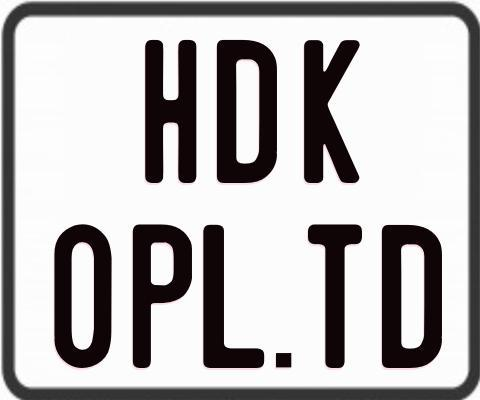0: (52, 223, 115, 367)
D: (382, 224, 446, 371), (214, 37, 274, 182)
H: (142, 40, 197, 188)
K: (301, 37, 363, 183)
L: (202, 225, 264, 374)
P: (133, 224, 193, 372)
T: (308, 222, 366, 371)
